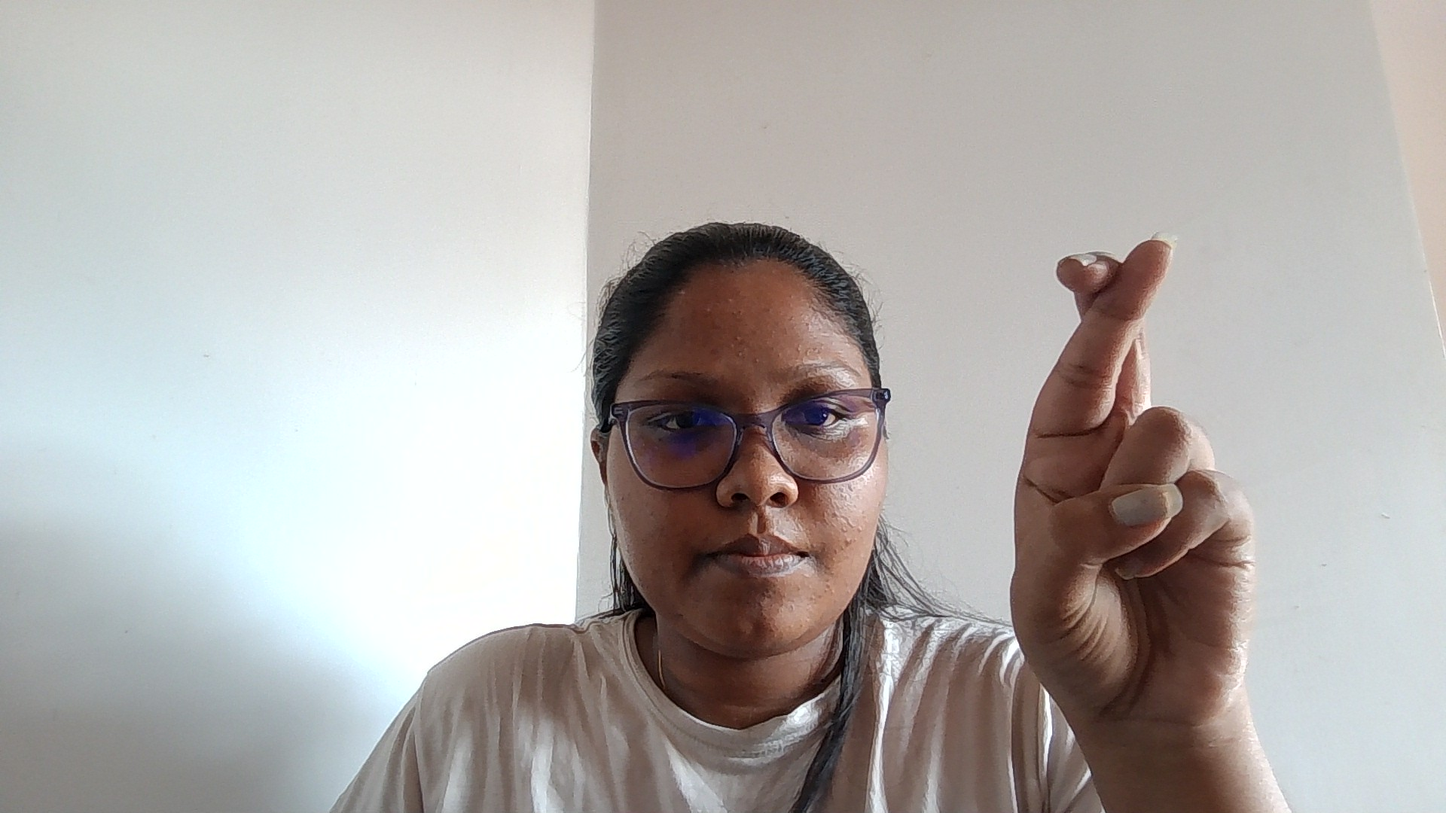Good_Luck: (977, 205, 1344, 793)
